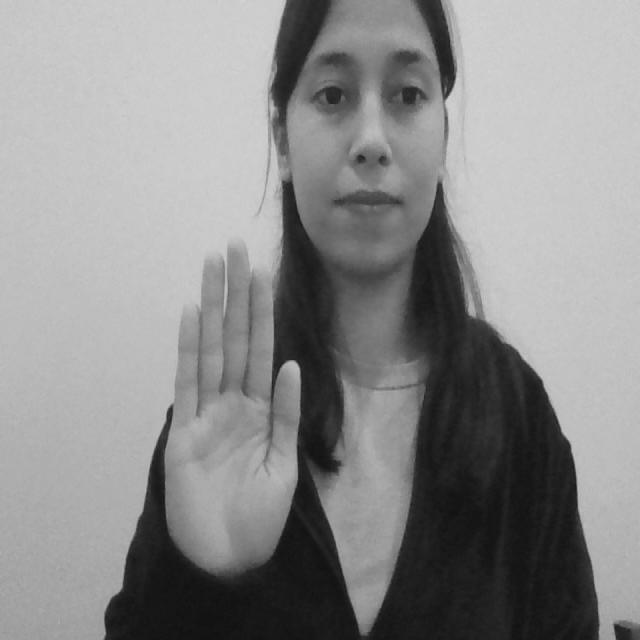Dur: (156, 220, 322, 594)
